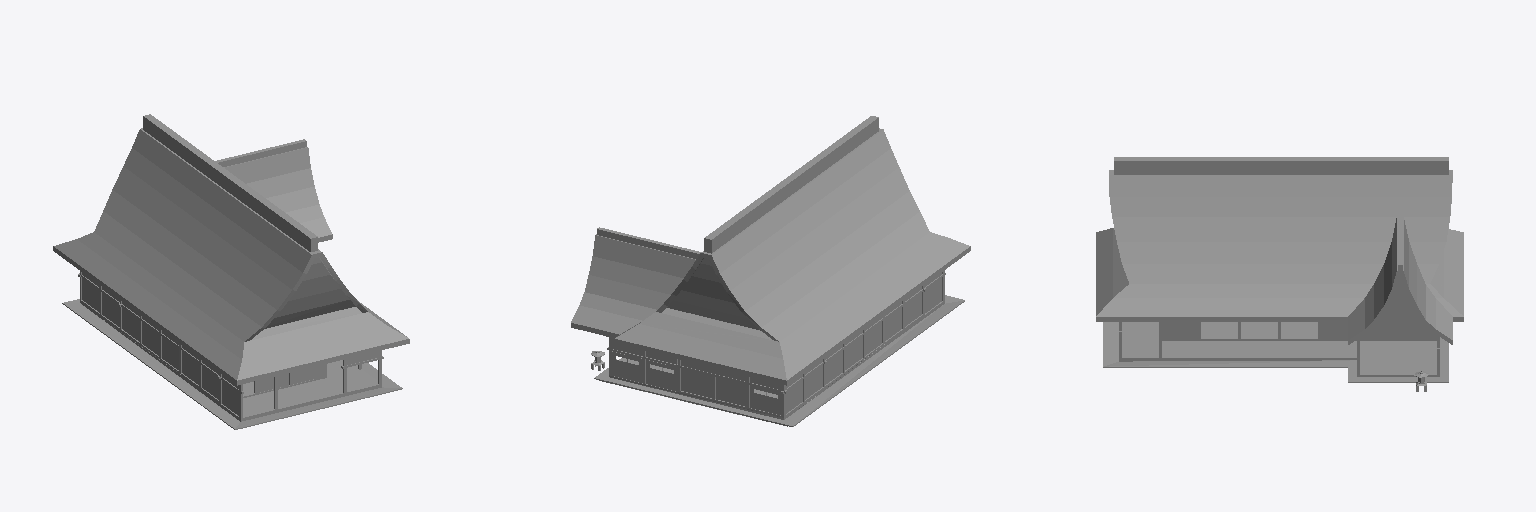
File: Casa.obj
3 views of the same model, side by side, from view 1: azimuth 30°, elevation 25°; view 2: azimuth 150°, elevation 25°; view 3: azimuth 270°, elevation 25° (orthographic).
Visible parts, largest first — view 1: Casa roof, Casa floor; view 2: Casa roof, Casa floor, Casa WhieWall001 whiteFBXASC032wall, Casa woodenFBXASC032wall woodFBXASC032wall008, Casa woodenFBXASC032wall woodFBXASC032wall009, Casa whiteFBXASC032wall WhieWall, Casa woodenFBXASC032wall woodFBXASC032wallFBXASC032FBXASC032FBXA; view 3: Casa roof, Casa floor, Casa woodenFBXASC032wall woodFBXASC032wall015.
Part boxes in pixels (bbox=[...]): Casa roof: bbox=[53, 114, 409, 385]; Casa floor: bbox=[62, 271, 402, 429]; Casa roof: bbox=[571, 116, 970, 385]; Casa floor: bbox=[594, 270, 964, 426]; Casa WhieWall001 whiteFBXASC032wall: bbox=[646, 360, 677, 391]; Casa woodenFBXASC032wall woodFBXASC032wall008: bbox=[716, 377, 746, 406]; Casa woodenFBXASC032wall woodFBXASC032wall009: bbox=[681, 368, 711, 397]; Casa whiteFBXASC032wall WhieWall: bbox=[612, 351, 642, 382]; Casa woodenFBXASC032wall woodFBXASC032wallFBXASC032FBXASC032FBXA: bbox=[750, 385, 780, 414]; Casa roof: bbox=[1096, 157, 1463, 344]; Casa floor: bbox=[1103, 322, 1448, 382]; Casa woodenFBXASC032wall woodFBXASC032wall015: bbox=[1162, 322, 1197, 338].
Size of the model in its own units: 103 by 75.25 by 148.